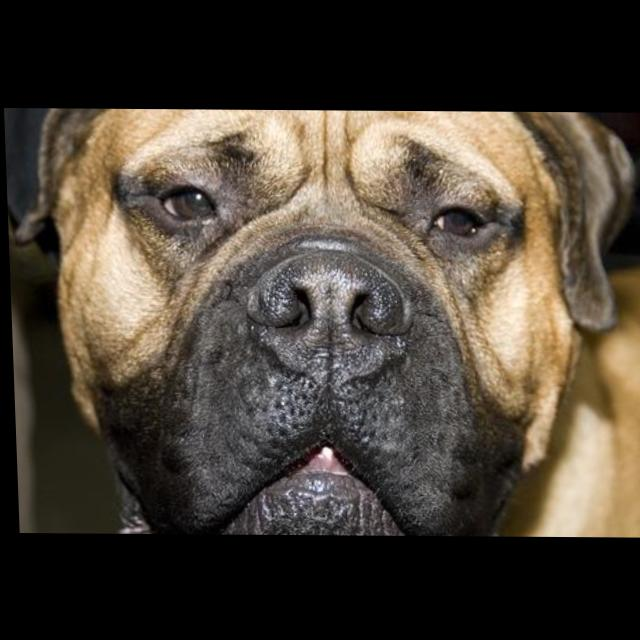bullmastiff: (4, 109, 640, 537)
